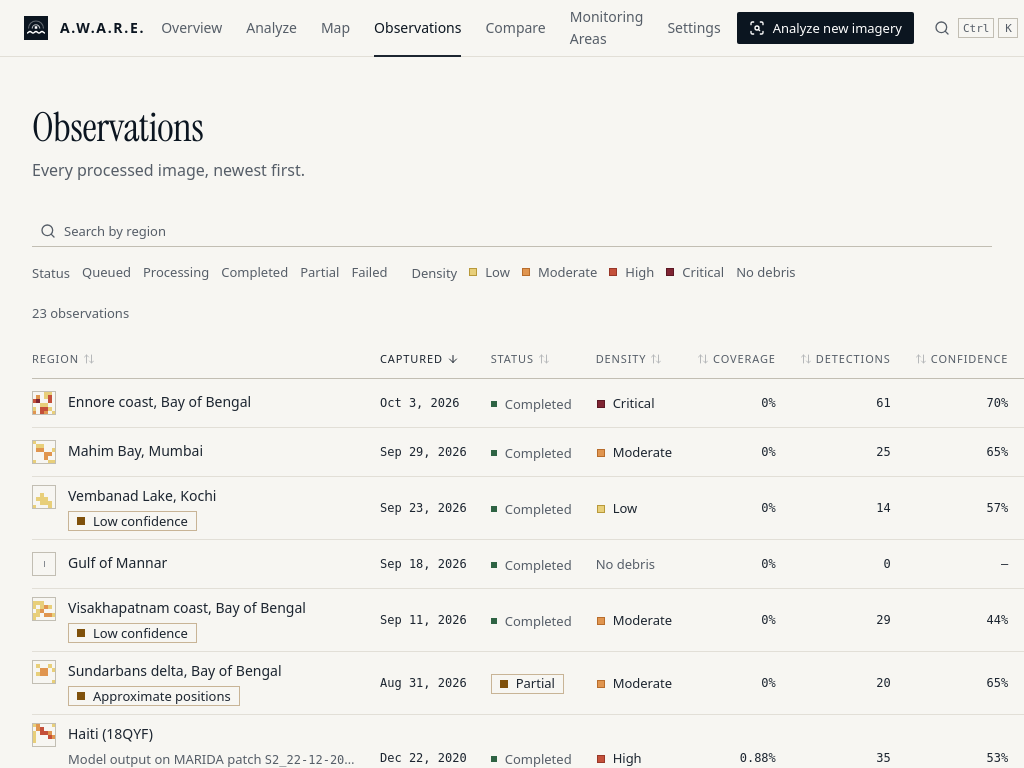
Test: keyboard shortcuts › "?" opens the shortcuts dialog, Esc closes it and focus returns
Expected: the heading "Observations" is shown, x1=32 y1=101 x2=204 y2=153
Type "?" into the search field labelled "Search by region". click: (512, 231)
box: x1=32 y1=215 x2=992 y2=247
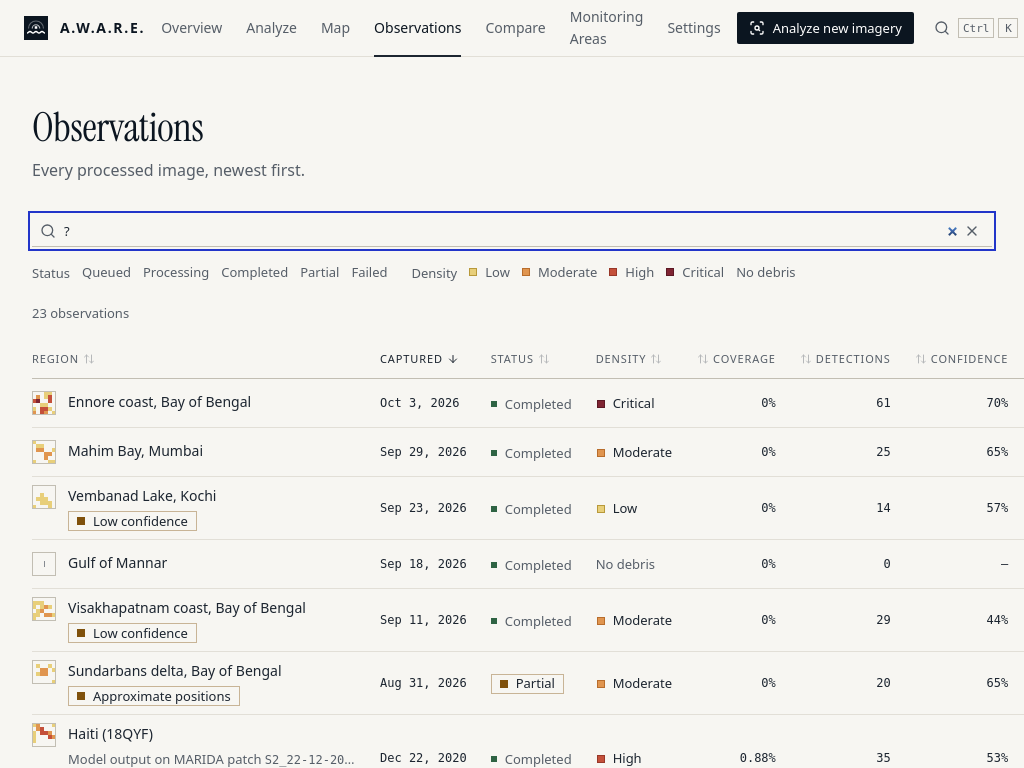
Expected: the dialog "Keyboard shortcuts" is not shown
Clear the search field named "Search by region". click: (512, 231)
box: x1=32 y1=215 x2=992 y2=247
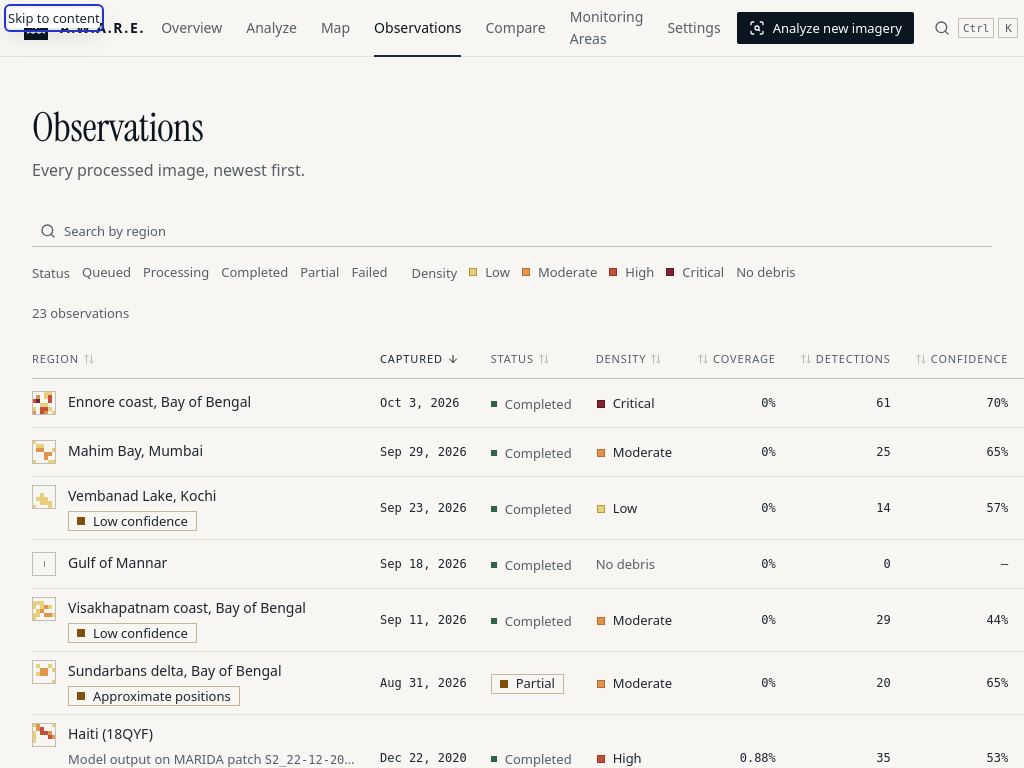
Type keys "?"
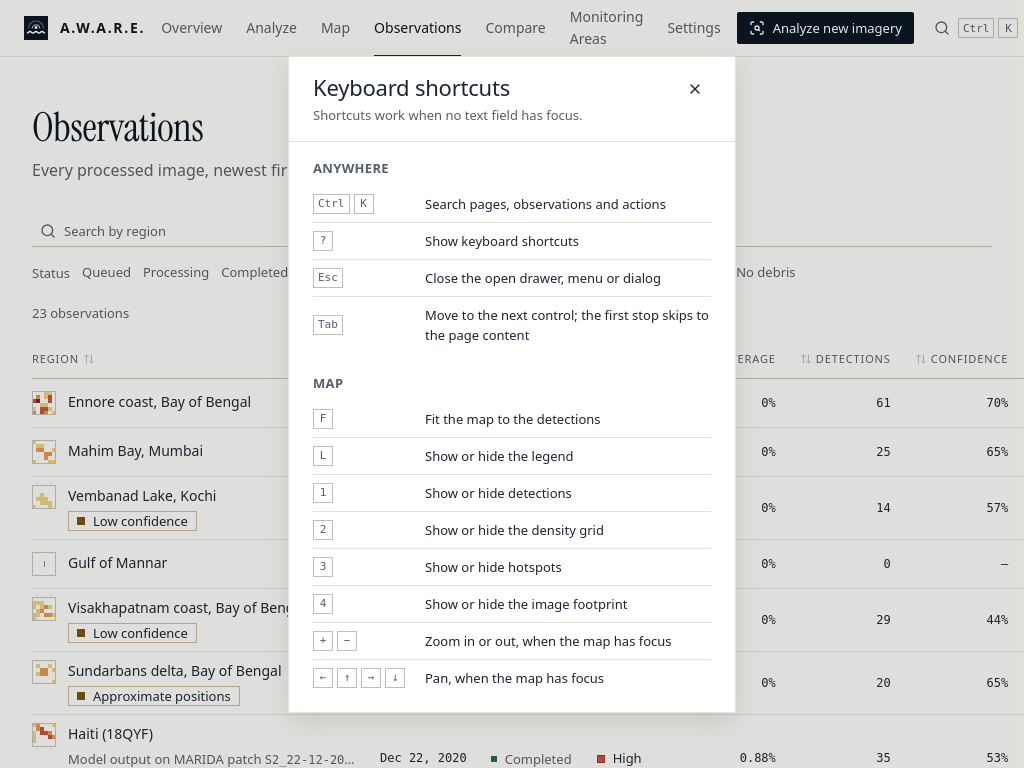
Expected: the dialog "Keyboard shortcuts" shows "Fit the map to the detections", x1=425 y1=410 x2=601 y2=428
Press Escape
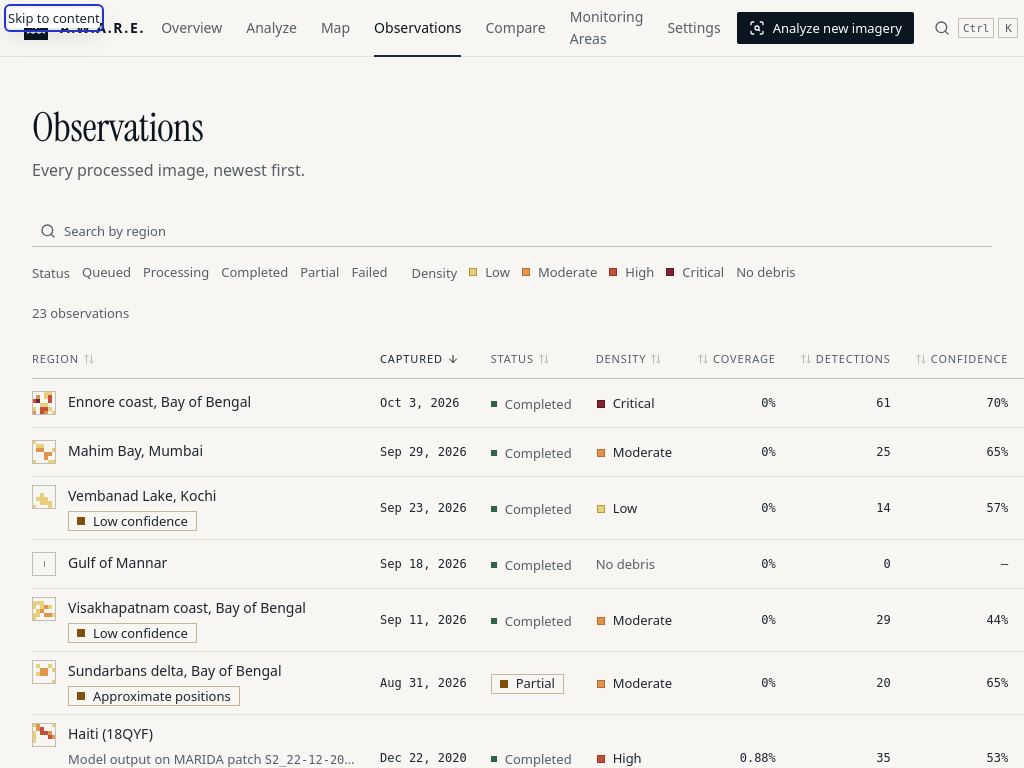
Expected: the heading "Keyboard shortcuts" is gone
